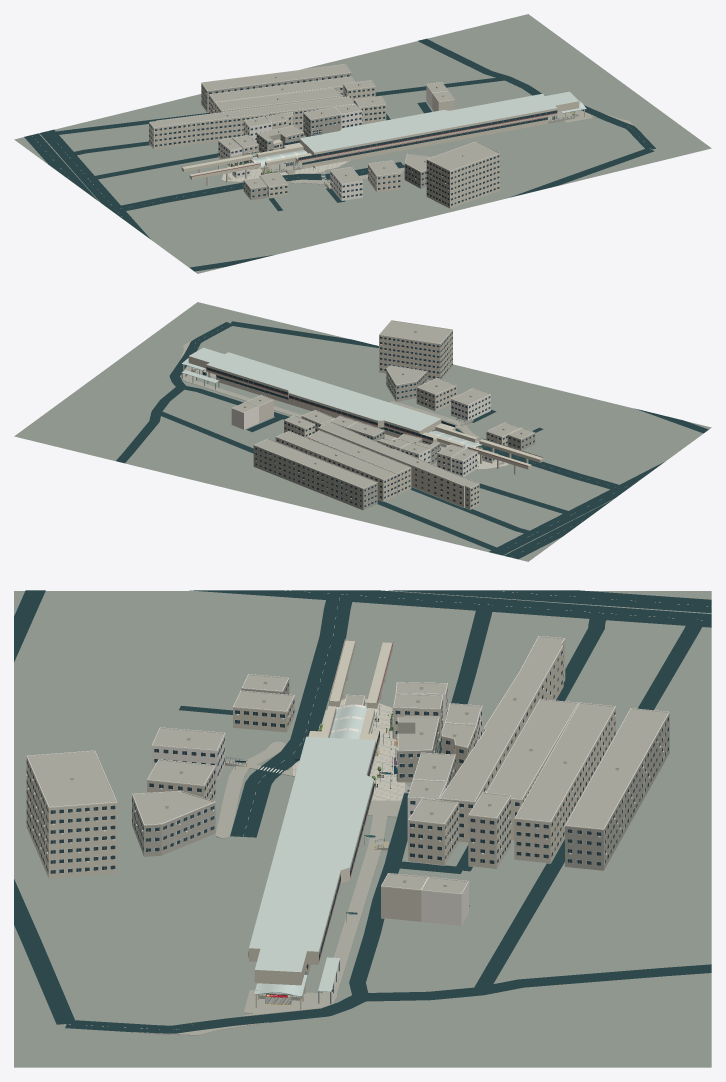
Rendered from shilin-district.glb.
3 views of the same model, one above another, from view 1: azimuth 30°, elevation 25°; view 2: azimuth 150°, elevation 25°; view 3: azimuth 270°, elevation 25° (orthographic). The views are drawn at different scales.
Parts seen in each view (by area): view 1: DISTRICT_plaza, DISTRICT_shops, DISTRICT_station; view 2: DISTRICT_plaza, DISTRICT_shops, DISTRICT_station; view 3: DISTRICT_plaza, DISTRICT_shops, DISTRICT_station.
Part boxes in pixels (<box>): DISTRICT_plaza: <box>14,14,711,273</box>; DISTRICT_shops: <box>149,64,499,208</box>; DISTRICT_station: <box>181,91,586,189</box>; DISTRICT_plaza: <box>14,302,711,561</box>; DISTRICT_shops: <box>231,320,535,510</box>; DISTRICT_station: <box>181,347,543,474</box>; DISTRICT_plaza: <box>14,590,711,1067</box>; DISTRICT_shops: <box>26,636,669,925</box>; DISTRICT_station: <box>225,639,393,1009</box>.
Bounding box in the file's own units: 338 × 24.46 × 209.
25 materials, 3 textured.
